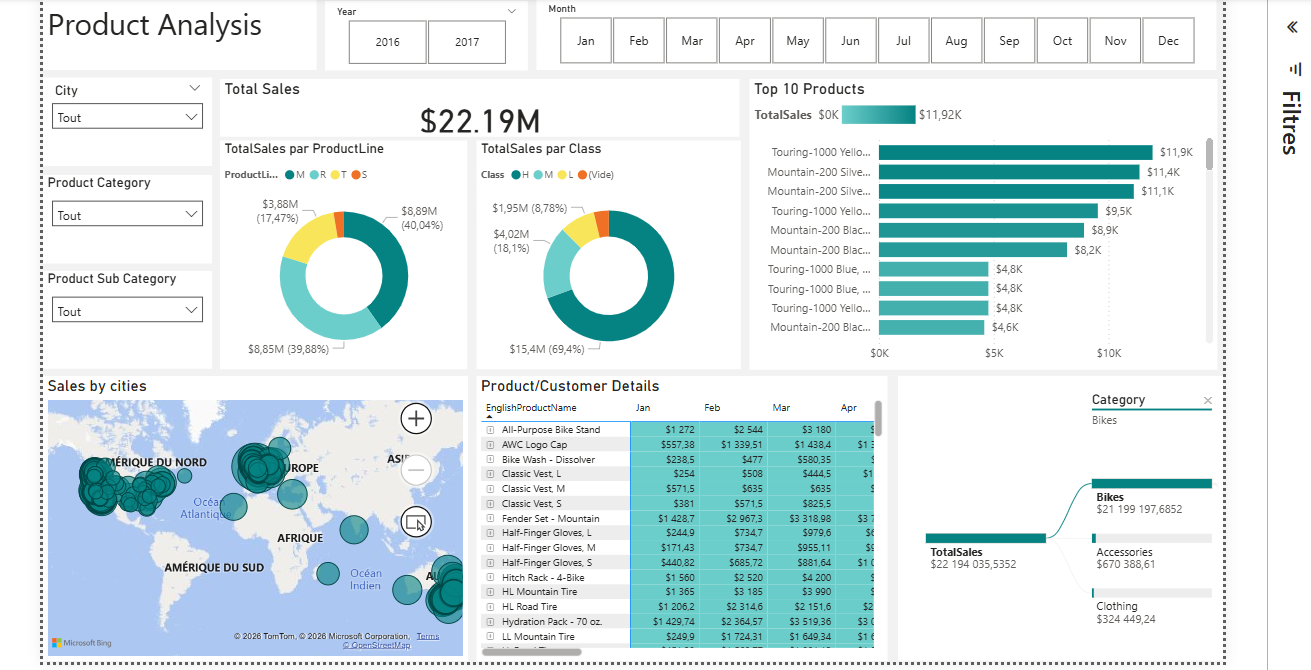

What the dashboard file says about the page in this screenshot:
{"tool":"powerbi","page":{"name":"Product Analysis","canvas":[1280,720],"ordinal":2},"visuals":[{"type":"textbox","box":[0,0,296.4,77.9],"z":0},{"type":"slicer","fields":{"Values":["Dim_Date.Year"]},"box":[305.4,2.7,220.3,75.2],"z":1000},{"type":"slicer","title":"Product Category","fields":{"Values":["Dim_Product.Category"]},"box":[0,191.6,183.6,95.8],"z":2000},{"type":"slicer","title":"Product Sub Category","fields":{"Values":["Dim_Product.Sub Category"]},"box":[0,296.4,183.6,105.7],"z":3000},{"type":"slicer","fields":{"Values":["Dim_Customer.City"]},"box":[0,86.9,183.6,95.8],"z":4000},{"type":"slicer","fields":{"Values":["Dim_Date.Month"]},"box":[534.6,0,737,77.9],"z":5000},{"type":"barChart","title":"Top 10 Products","fields":{"Y":["Fact_Internet_Sales.TotalSales"],"Category":["Dim_Product.EnglishProductName"]},"box":[765.4,87,507.5,315.3],"z":6000},{"type":"map","title":"Sales by cities","fields":{"Category":["Dim_Customer.City"],"Size":["Fact_Internet_Sales.TotalSales"]},"box":[0,410.6,459.9,308.8],"z":7000},{"type":"donutChart","fields":{"Y":["Fact_Internet_Sales.TotalSales"],"Category":["Dim_Product.Class"]},"box":[470,154.5,286.4,248.2],"z":8000},{"type":"pivotTable","title":"Product/Customer Details","fields":{"Rows":["Dim_Product.EnglishProductName","Dim_Customer.Full Name"],"Columns":["Dim_Date.Month"],"Values":["Fact_Internet_Sales.TotalSales"]},"box":[469.7,410.6,445.1,308.8],"z":9000},{"type":"donutChart","fields":{"Y":["Fact_Internet_Sales.TotalSales"],"Category":["Dim_Product.ProductLine"]},"box":[192.7,154.5,268.2,248.2],"z":10000},{"type":"card","title":"Total Sales","fields":{"Values":["Fact_Internet_Sales.TotalSales"]},"box":[192.7,87.3,563.6,62.7],"z":11000},{"type":"decompositionTreeVisual","fields":{"Analyze":["Fact_Internet_Sales.TotalSales"],"ExplainBy":["Dim_Product.Category","Dim_Customer.City"]},"box":[926.3,410.6,353.1,308.8],"z":11001}]}

Visuals, with their boxes on the page's 1280x720 design canvas (x1, y1, x2, y2). These are canvas units, not pixel positions in the 1311x670 screenshot, which may show the page scaled, cropped or inside an application window:
textbox: {"x1": 0, "y1": 0, "x2": 296, "y2": 78}
slicer - Dim_Date.Year: {"x1": 305, "y1": 3, "x2": 526, "y2": 78}
"Product Category" slicer: {"x1": 0, "y1": 192, "x2": 184, "y2": 287}
"Product Sub Category" slicer: {"x1": 0, "y1": 296, "x2": 184, "y2": 402}
slicer - Dim_Customer.City: {"x1": 0, "y1": 87, "x2": 184, "y2": 183}
slicer - Dim_Date.Month: {"x1": 535, "y1": 0, "x2": 1272, "y2": 78}
"Top 10 Products" barChart: {"x1": 765, "y1": 87, "x2": 1273, "y2": 402}
"Sales by cities" map: {"x1": 0, "y1": 411, "x2": 460, "y2": 719}
donutChart - Fact_Internet_Sales.TotalSales x Dim_Product.Class: {"x1": 470, "y1": 154, "x2": 756, "y2": 403}
"Product/Customer Details" pivotTable: {"x1": 470, "y1": 411, "x2": 915, "y2": 719}
donutChart - Fact_Internet_Sales.TotalSales x Dim_Product.ProductLine: {"x1": 193, "y1": 154, "x2": 461, "y2": 403}
"Total Sales" card: {"x1": 193, "y1": 87, "x2": 756, "y2": 150}
decompositionTreeVisual - Fact_Internet_Sales.TotalSales x Dim_Product.Category: {"x1": 926, "y1": 411, "x2": 1279, "y2": 719}
